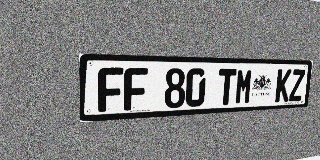0: (185, 68, 206, 107)
8: (164, 68, 186, 108)
F: (98, 67, 123, 112), (124, 68, 148, 111)
K: (275, 69, 292, 102)
M: (234, 69, 253, 104)
T: (217, 69, 237, 105)
Z: (289, 69, 305, 101)
